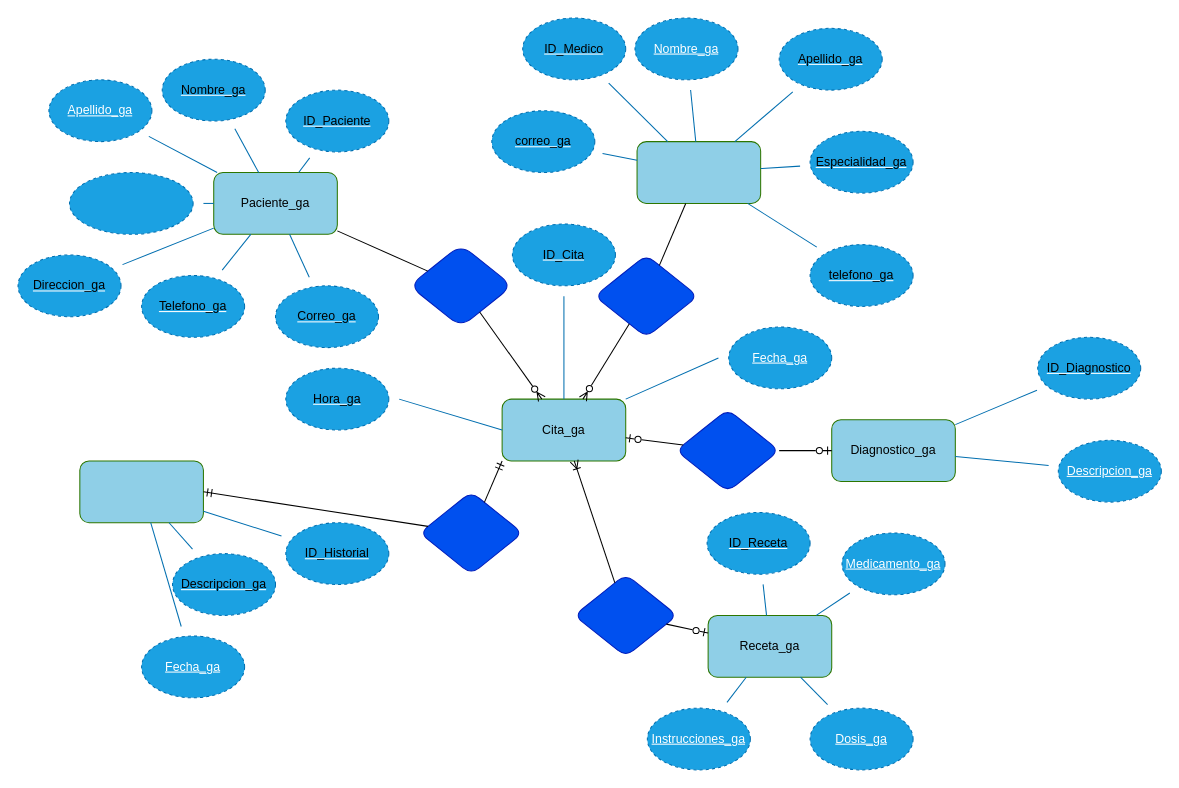
Some shapes in this 1179 by 788 pixel diagram are drawn without their labels. The centre of each missing label's shape, as x and y in pixels:
"Asigna" goes at pixel 727 450.
"Atiende" goes at pixel 646 295.
"Fecha_Nacimiento_ga" goes at pixel 130 202.
"Genera" goes at pixel 471 532.
"Historial_medico_ga" goes at pixel 141 491.
"Medico_ga" goes at pixel 698 172.
"Realiza" goes at pixel 460 285.
"Receta" goes at pixel 625 615.
